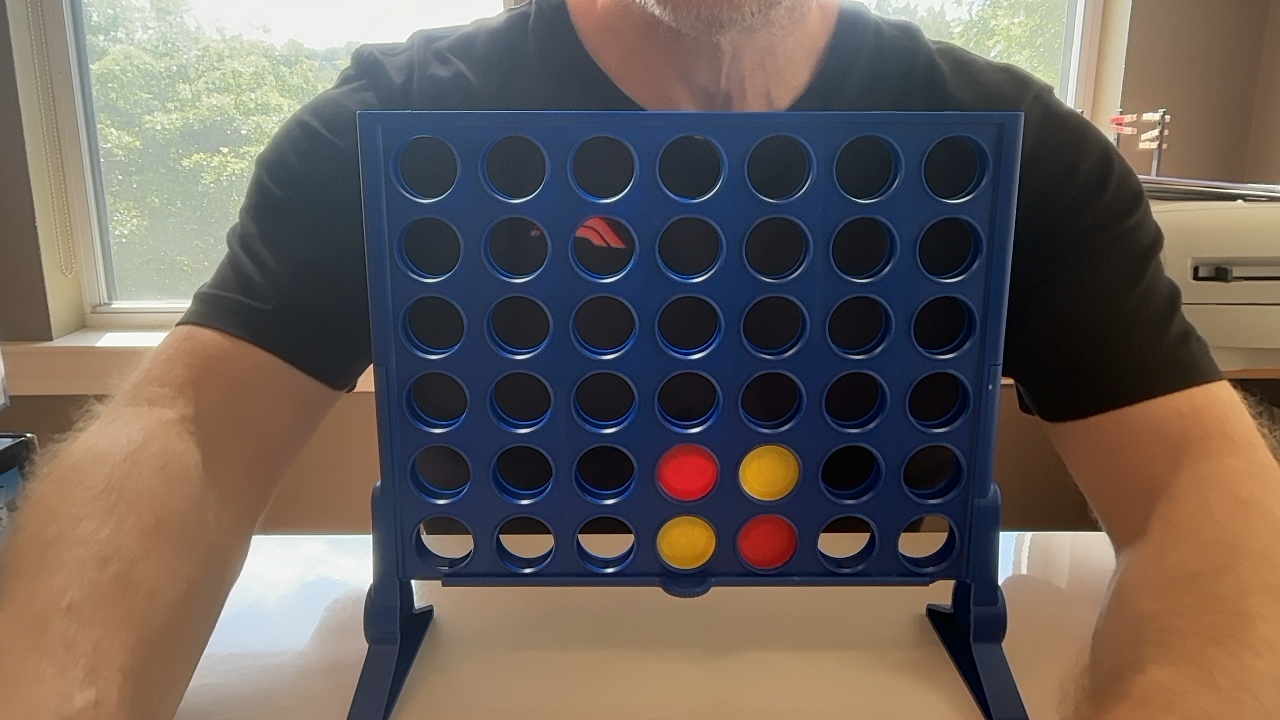red piece: (657, 445, 718, 501), (737, 515, 797, 569)
yellow piece: (739, 445, 800, 500), (657, 517, 715, 569)
